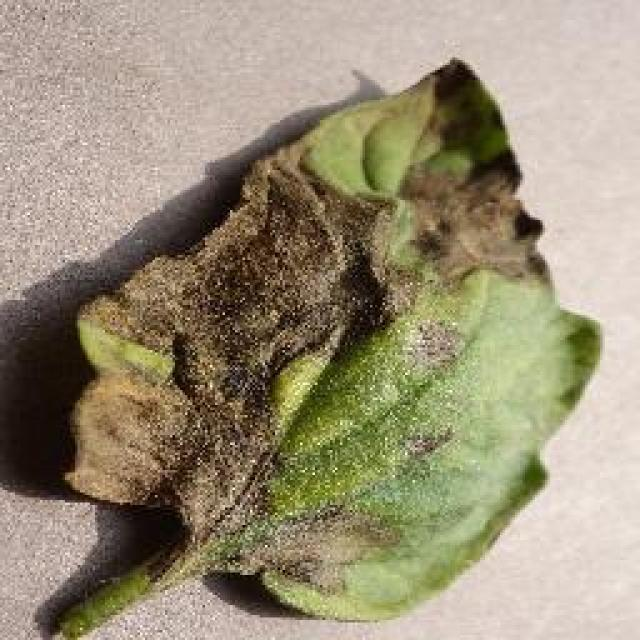Tomato Late Blight: (61, 126, 462, 592)
